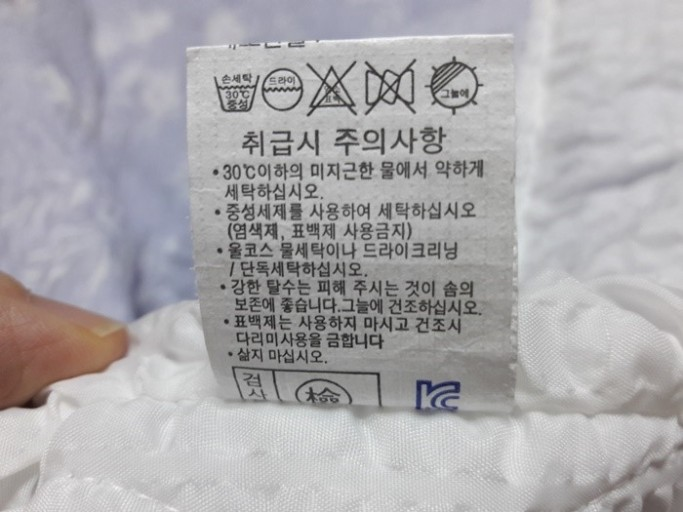KR_dry_clean: (260, 65, 304, 113)
KR_flat_dry_in_shade: (424, 55, 483, 115)
KR_hand_wash_30_neutral: (210, 67, 260, 114)
KR_no_chlorine_bleach: (304, 64, 355, 113)
KR_no_wring: (360, 63, 418, 109)
